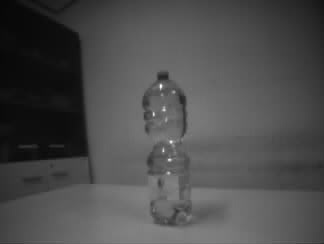Bottle: (138, 68, 195, 228)
